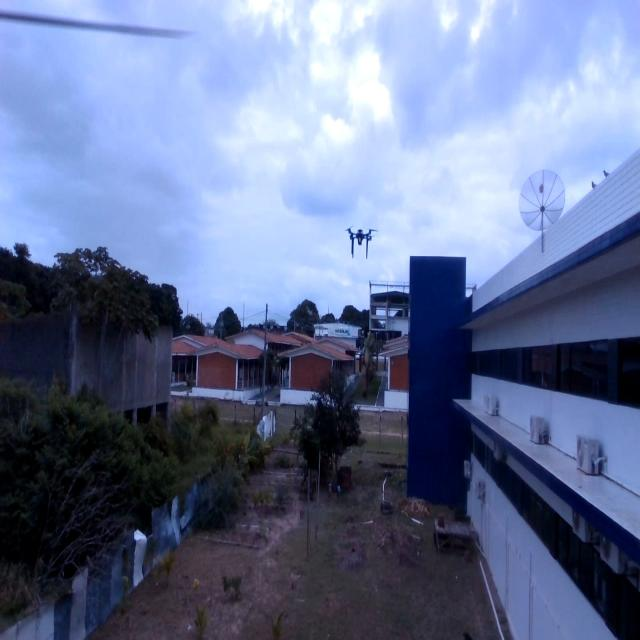-uav-: (341, 208, 382, 271)
